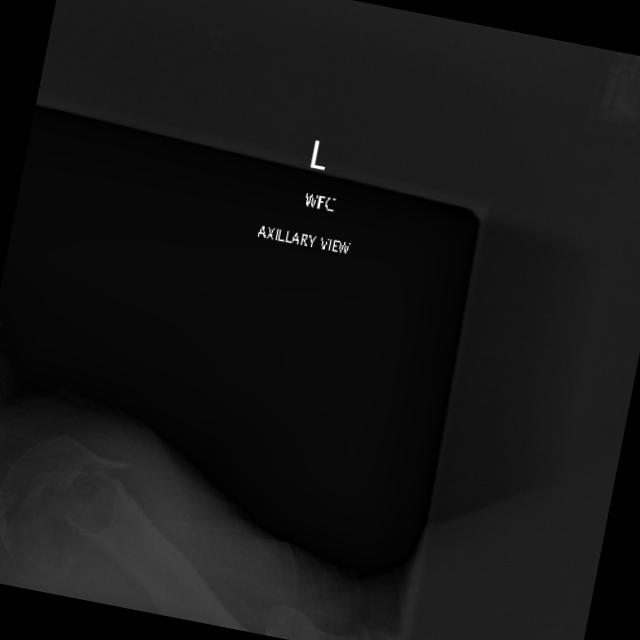shoulder fracture: (66, 428, 163, 526)
